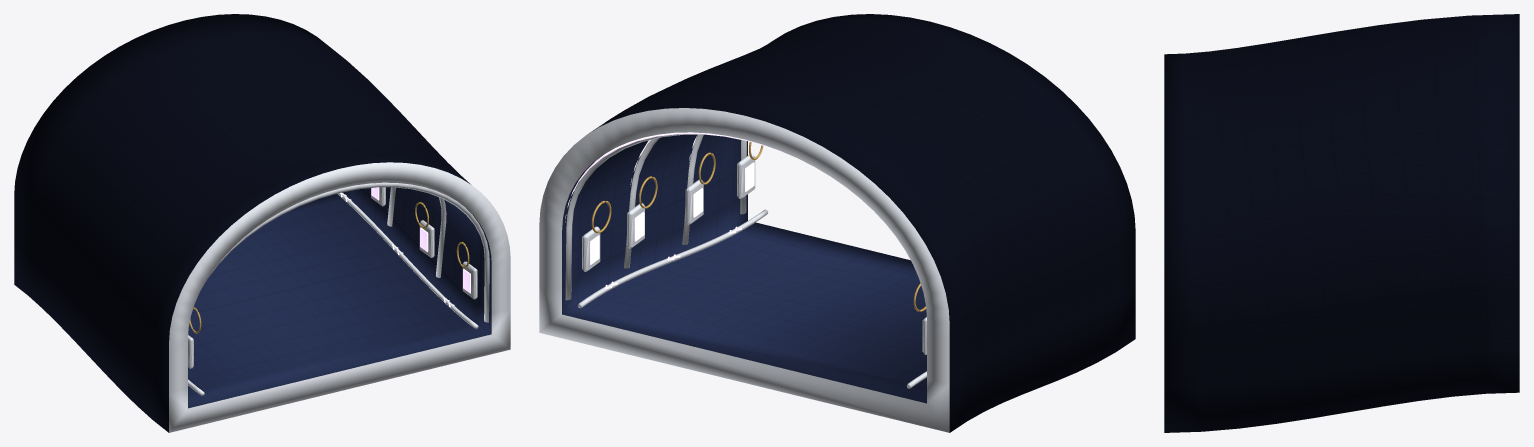
Rendered from grade_up_lod1.glb.
3 renders of one model, left to right at view 1: azimuth 30°, elevation 25°; view 2: azimuth 150°, elevation 25°; view 3: azimuth 270°, elevation 25°, orthographic. The views are drawn at different scales.
Parts seen in each view (by area): view 1: TunnelGeometry.001; view 2: TunnelGeometry.001; view 3: TunnelGeometry.001.
Boxes of the visible parts, left/top/right/bottom form: TunnelGeometry.001: left=14, top=14, right=510, bottom=432; TunnelGeometry.001: left=539, top=14, right=1135, bottom=432; TunnelGeometry.001: left=1164, top=14, right=1519, bottom=432.
Bounding box in the file's own units: 15.3 × 11.02 × 12.
Materials: 5 (2 with a texture image).
